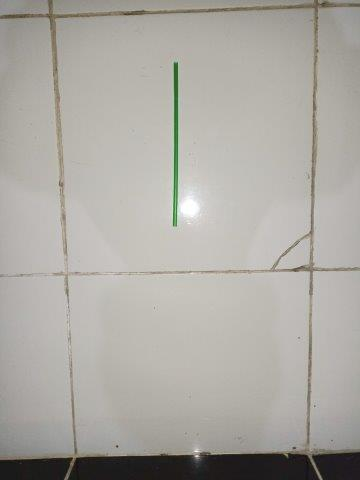sedotan: (173, 62, 178, 227)
